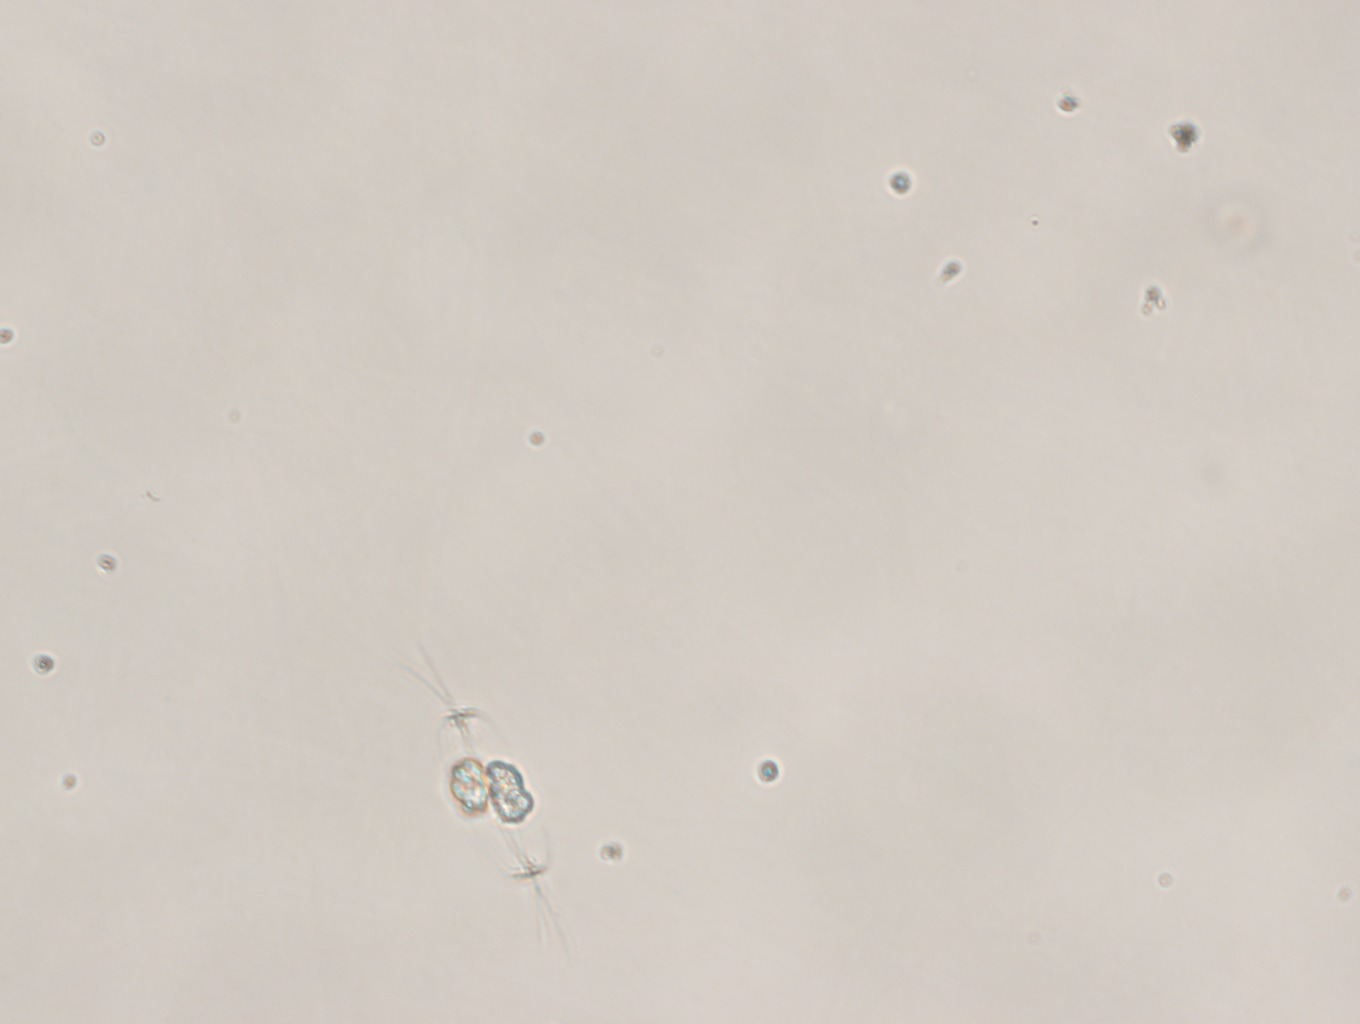chaetoceros: (395, 634, 587, 986)
